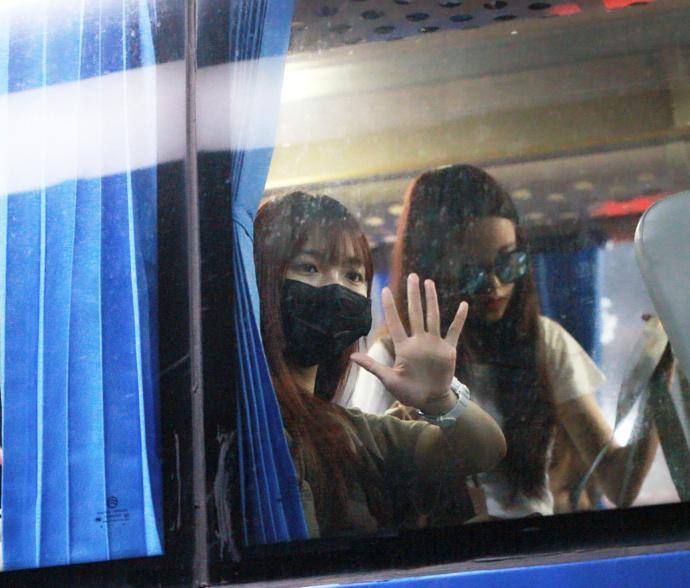NONE: (448, 228, 524, 324)
OK: (264, 243, 370, 353)
